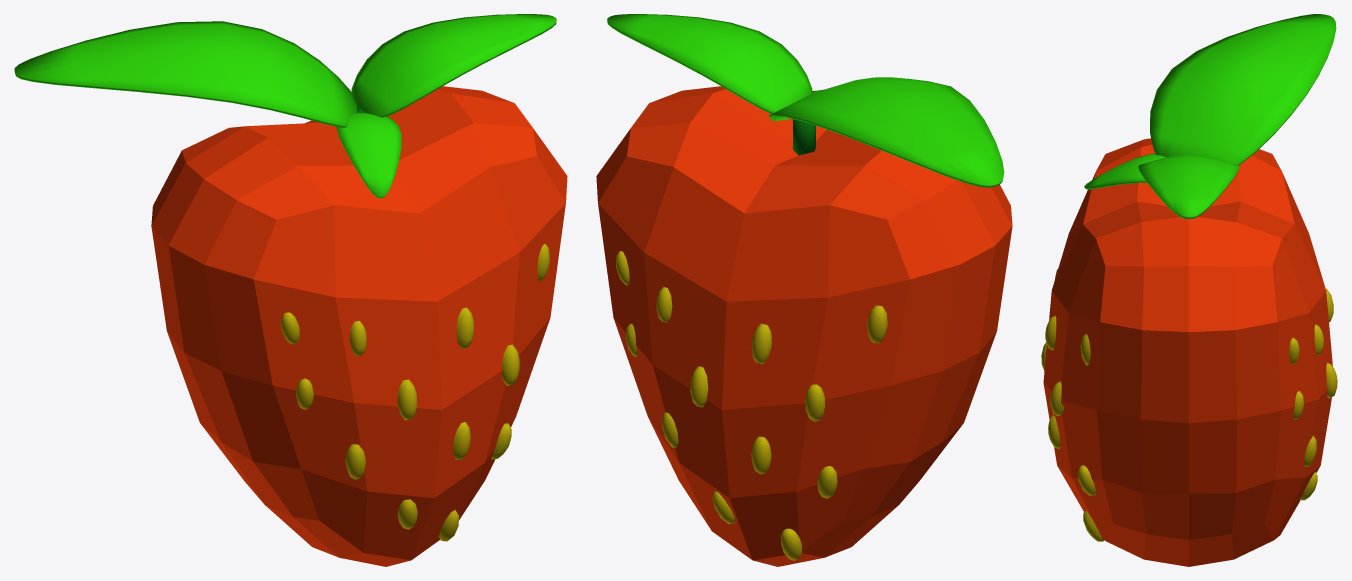
The model's file is strawberry.glb.
The picture shows the model from 3 angles, left to right: view 1: azimuth 30°, elevation 25°; view 2: azimuth 150°, elevation 25°; view 3: azimuth 270°, elevation 25°; orthographic projection. The views are drawn at different scales.
Parts seen in each view (by area): view 1: Strawberry; view 2: Strawberry; view 3: Strawberry.
Boxes of the visible parts, bbox=[...] form: Strawberry: bbox=[14, 14, 567, 566]; Strawberry: bbox=[596, 14, 1012, 566]; Strawberry: bbox=[1041, 14, 1337, 566].
Size of the model in its own units: 2.27 by 2.42 by 1.42.
